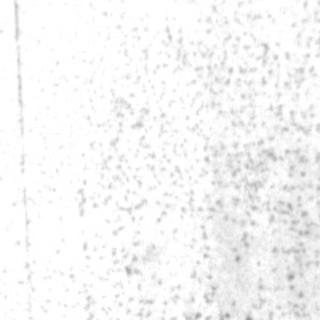pitted_surface: (71, 0, 317, 316)
